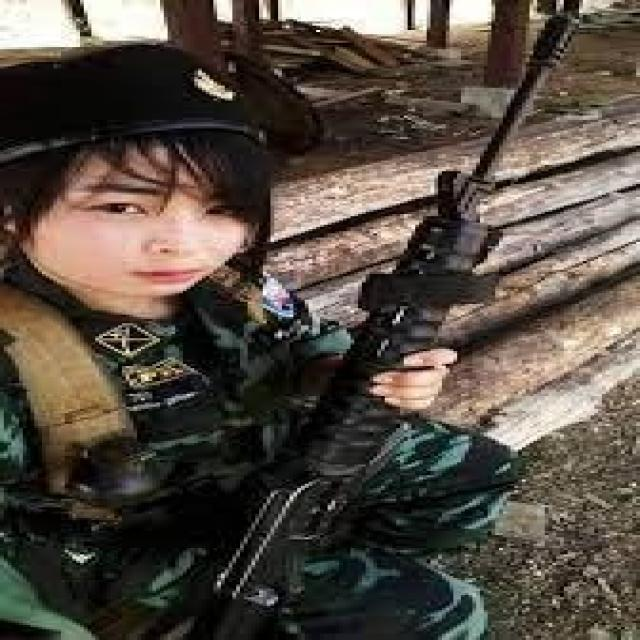gun: (222, 7, 583, 585)
